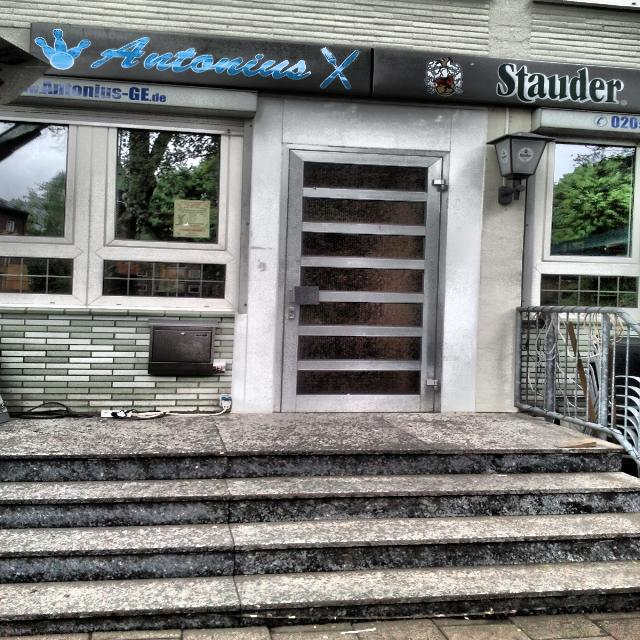escada: (2, 448, 640, 635)
